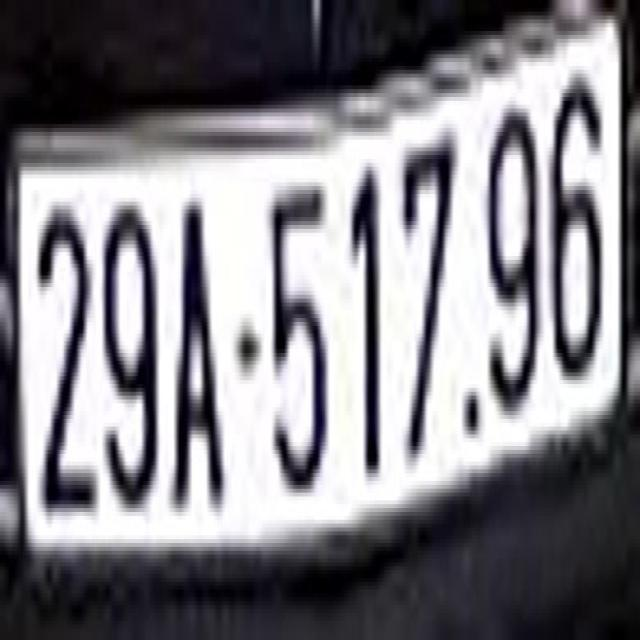1: (347, 147, 384, 485)
2: (34, 194, 98, 520)
5: (269, 167, 331, 504)
6: (550, 54, 606, 396)
7: (399, 126, 456, 464)
9: (101, 184, 160, 518), (484, 93, 538, 423)
A: (170, 184, 227, 518)
